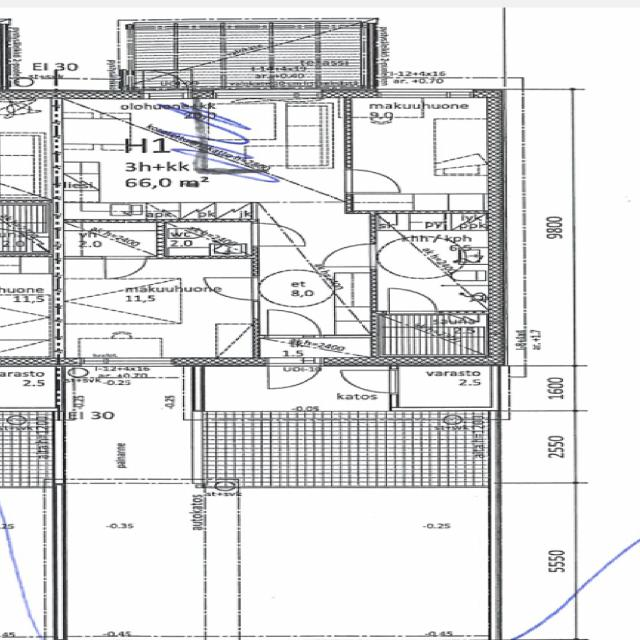door: (266, 357, 324, 394), (266, 308, 320, 338), (143, 67, 190, 99), (320, 243, 378, 267), (388, 286, 437, 314), (340, 368, 397, 392), (344, 170, 402, 192), (204, 277, 259, 300), (102, 255, 147, 280), (251, 224, 304, 245)
